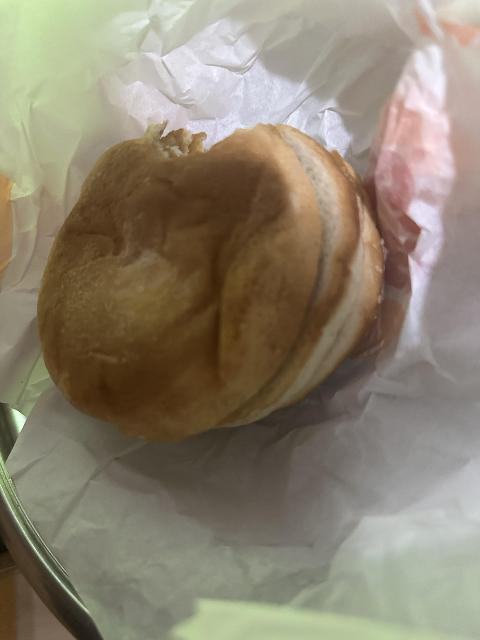Organik: (43, 127, 379, 424)
